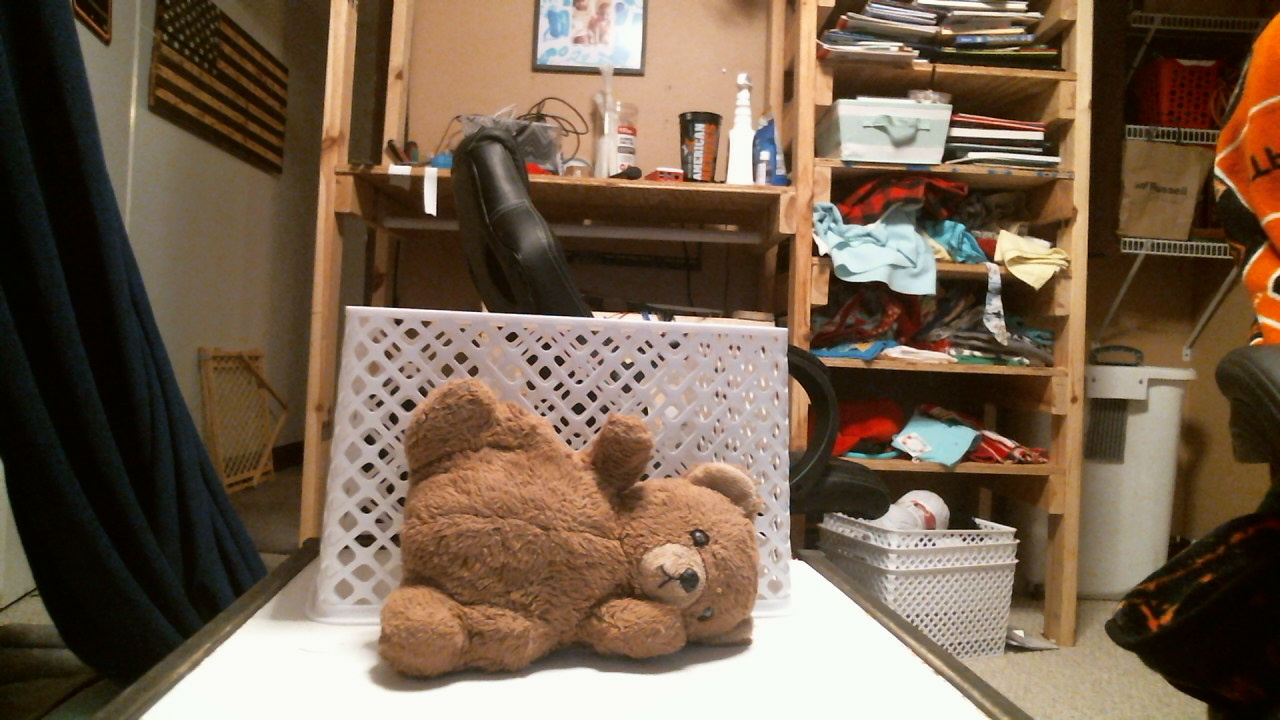Little_Mister_Bear: (622, 525, 744, 628)
